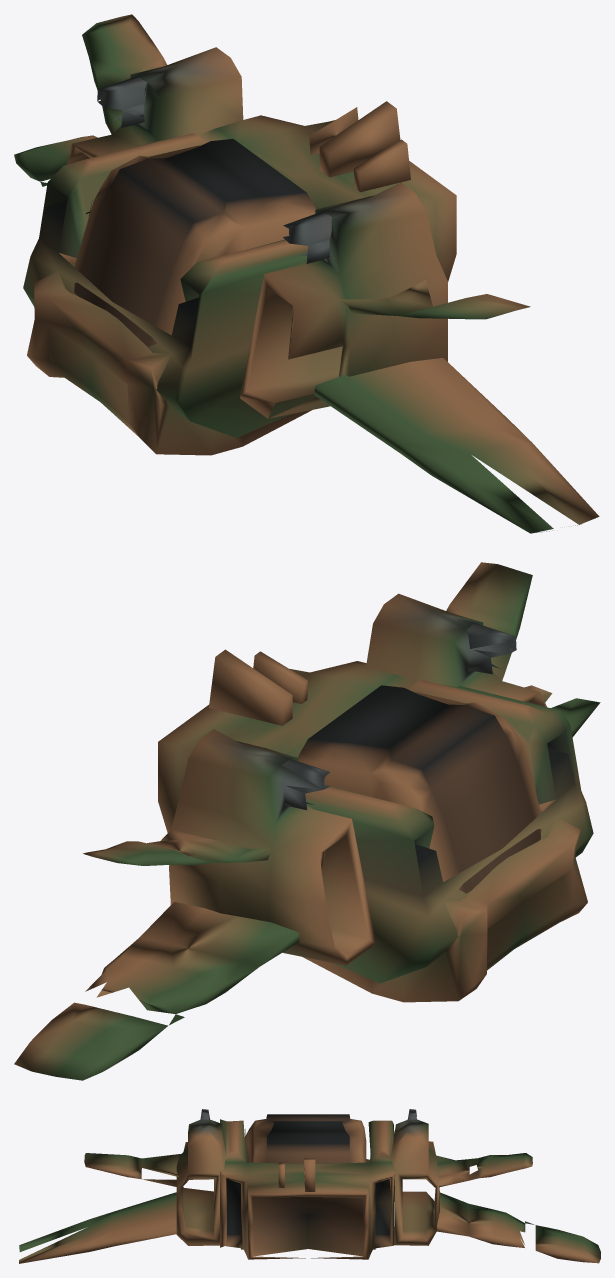
Rendered from car_skiff.glb.
The picture shows the model from 3 angles, top to bottom: view 1: azimuth 30°, elevation 25°; view 2: azimuth 150°, elevation 25°; view 3: azimuth 270°, elevation 25°; orthographic projection. The views are drawn at different scales.
Visible parts, largest first — view 1: Body; view 2: Body; view 3: Body.
Part boxes in pixels (x1,y1,x2,y2): Body: (14, 14, 599, 533); Body: (14, 562, 600, 1080); Body: (19, 1109, 600, 1263).
Size of the model in its own units: 1.83 by 1.37 by 5.17.
